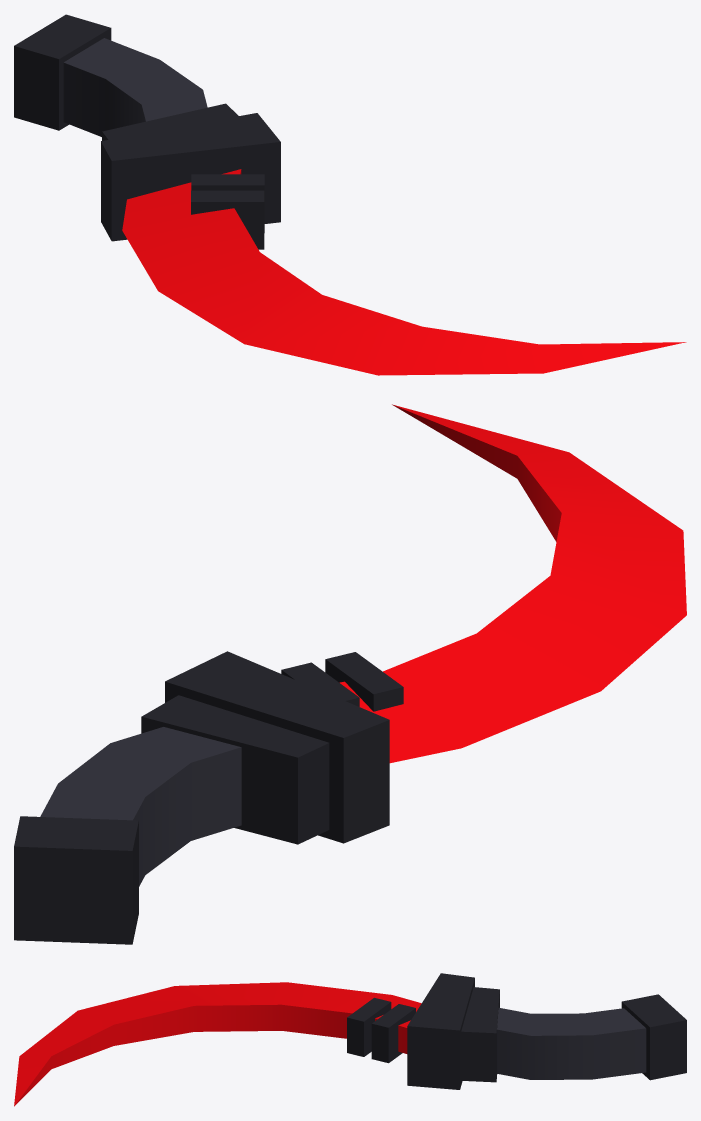
Rendered from Sword 02.FBX.
The picture shows the model from 3 angles, top to bottom: view 1: azimuth 30°, elevation 25°; view 2: azimuth 150°, elevation 25°; view 3: azimuth 270°, elevation 25°; orthographic projection. The views are drawn at different scales.
Parts seen in each view (by area): view 1: Sword 02; view 2: Sword 02; view 3: Sword 02.
Part boxes in pixels (x1,y1,x2,y2): Sword 02: (14, 14, 686, 375); Sword 02: (14, 404, 686, 944); Sword 02: (14, 973, 686, 1106).
Size of the model in its own units: 25.85 by 5.77 by 59.03.
